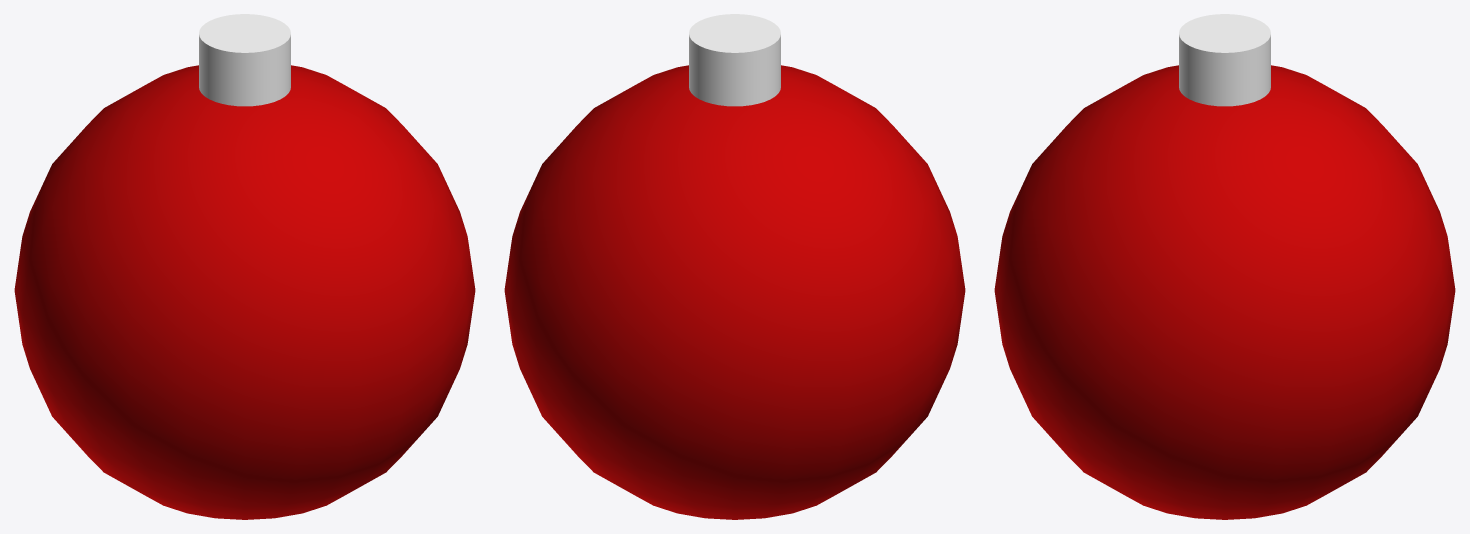
Rendered from bauble-red.obj.
The picture shows the model from 3 angles, left to right: view 1: azimuth 30°, elevation 25°; view 2: azimuth 150°, elevation 25°; view 3: azimuth 270°, elevation 25°; orthographic projection.
Visible parts, largest first — view 1: Sphere, Cylinder; view 2: Sphere, Cylinder; view 3: Sphere, Cylinder.
Boxes of the visible parts, left/top/right/bottom form: Sphere: left=14, top=65, right=475, bottom=519; Cylinder: left=199, top=14, right=290, bottom=106; Sphere: left=504, top=65, right=965, bottom=519; Cylinder: left=689, top=14, right=780, bottom=106; Sphere: left=994, top=65, right=1455, bottom=519; Cylinder: left=1179, top=14, right=1270, bottom=106.
Bounding box in the file's own units: 200 × 223 × 200.
